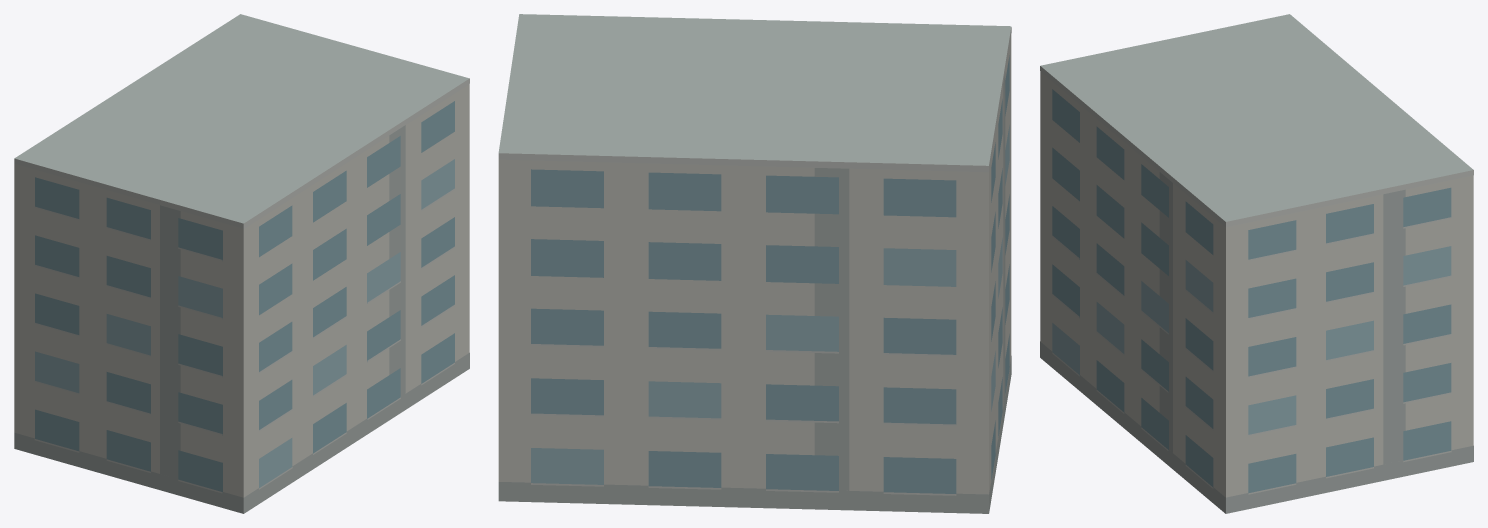
Rendered from survey-upis-32799920.glb.
3 views of the same model, side by side, from view 1: azimuth 30°, elevation 25°; view 2: azimuth 150°, elevation 25°; view 3: azimuth 270°, elevation 25° (orthographic). The views are drawn at different scales.
Visible parts, largest first — view 1: survey-upis-32799920.tmp; view 2: survey-upis-32799920.tmp; view 3: survey-upis-32799920.tmp.
Part boxes in pixels (x1,y1,x2,y2): survey-upis-32799920.tmp: (14,14,469,513); survey-upis-32799920.tmp: (498,14,1011,513); survey-upis-32799920.tmp: (1040,14,1473,513).
Size of the model in its own units: 20.09 by 13.15 by 17.71.
